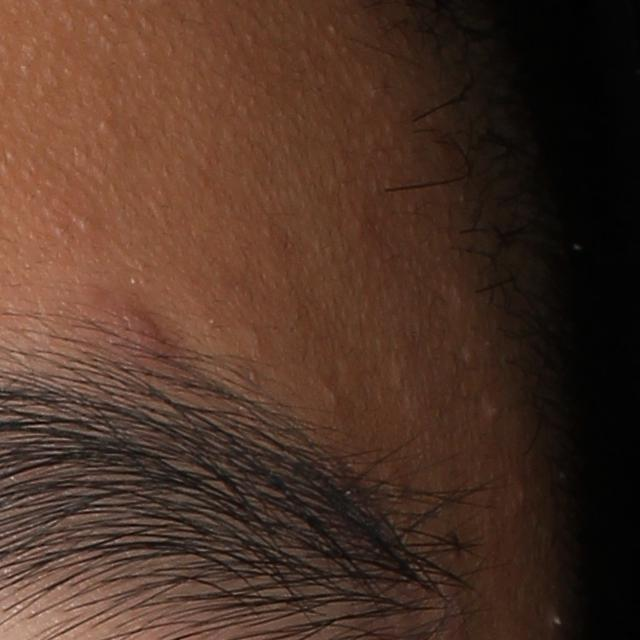papule: (92, 305, 170, 365)
